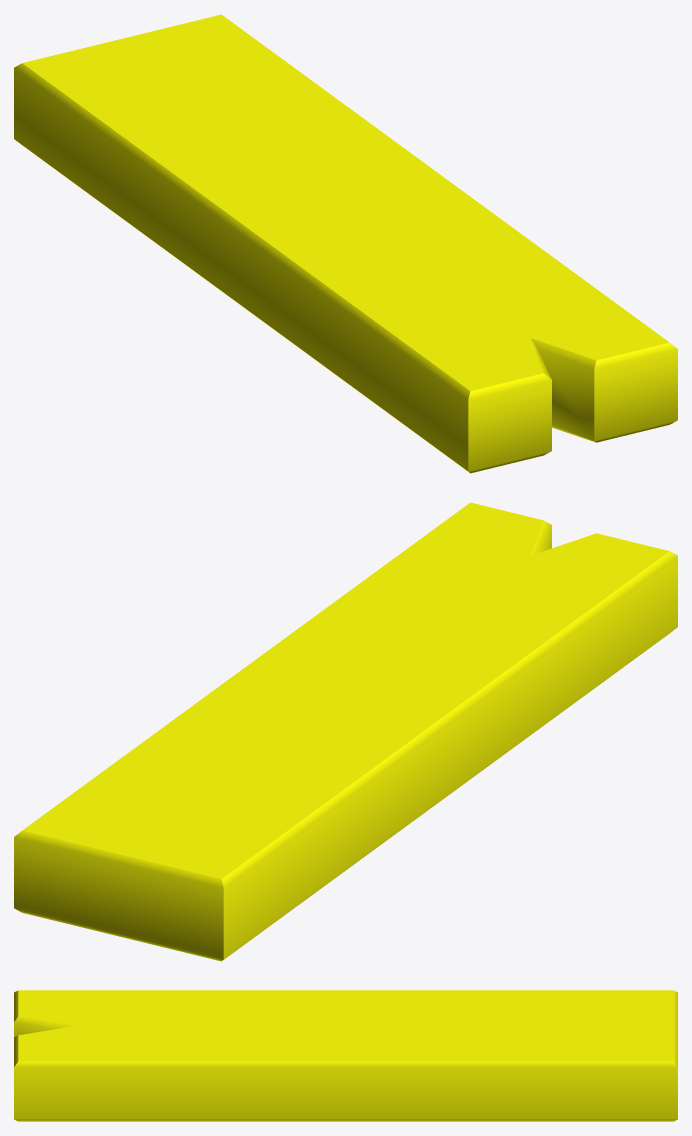
Rendered from kaykit-wood-plank-b.glb.
The picture shows the model from 3 angles, top to bottom: view 1: azimuth 30°, elevation 25°; view 2: azimuth 150°, elevation 25°; view 3: azimuth 270°, elevation 25°; orthographic projection. The views are drawn at different scales.
Parts seen in each view (by area): view 1: Wood_Plank_B; view 2: Wood_Plank_B; view 3: Wood_Plank_B.
Part boxes in pixels (left/top/right/bottom): Wood_Plank_B: left=14, top=14, right=677, bottom=473; Wood_Plank_B: left=14, top=502, right=677, bottom=961; Wood_Plank_B: left=14, top=990, right=677, bottom=1121.
Bounding box in the file's own units: 0.4 × 0.15 × 1.5.
